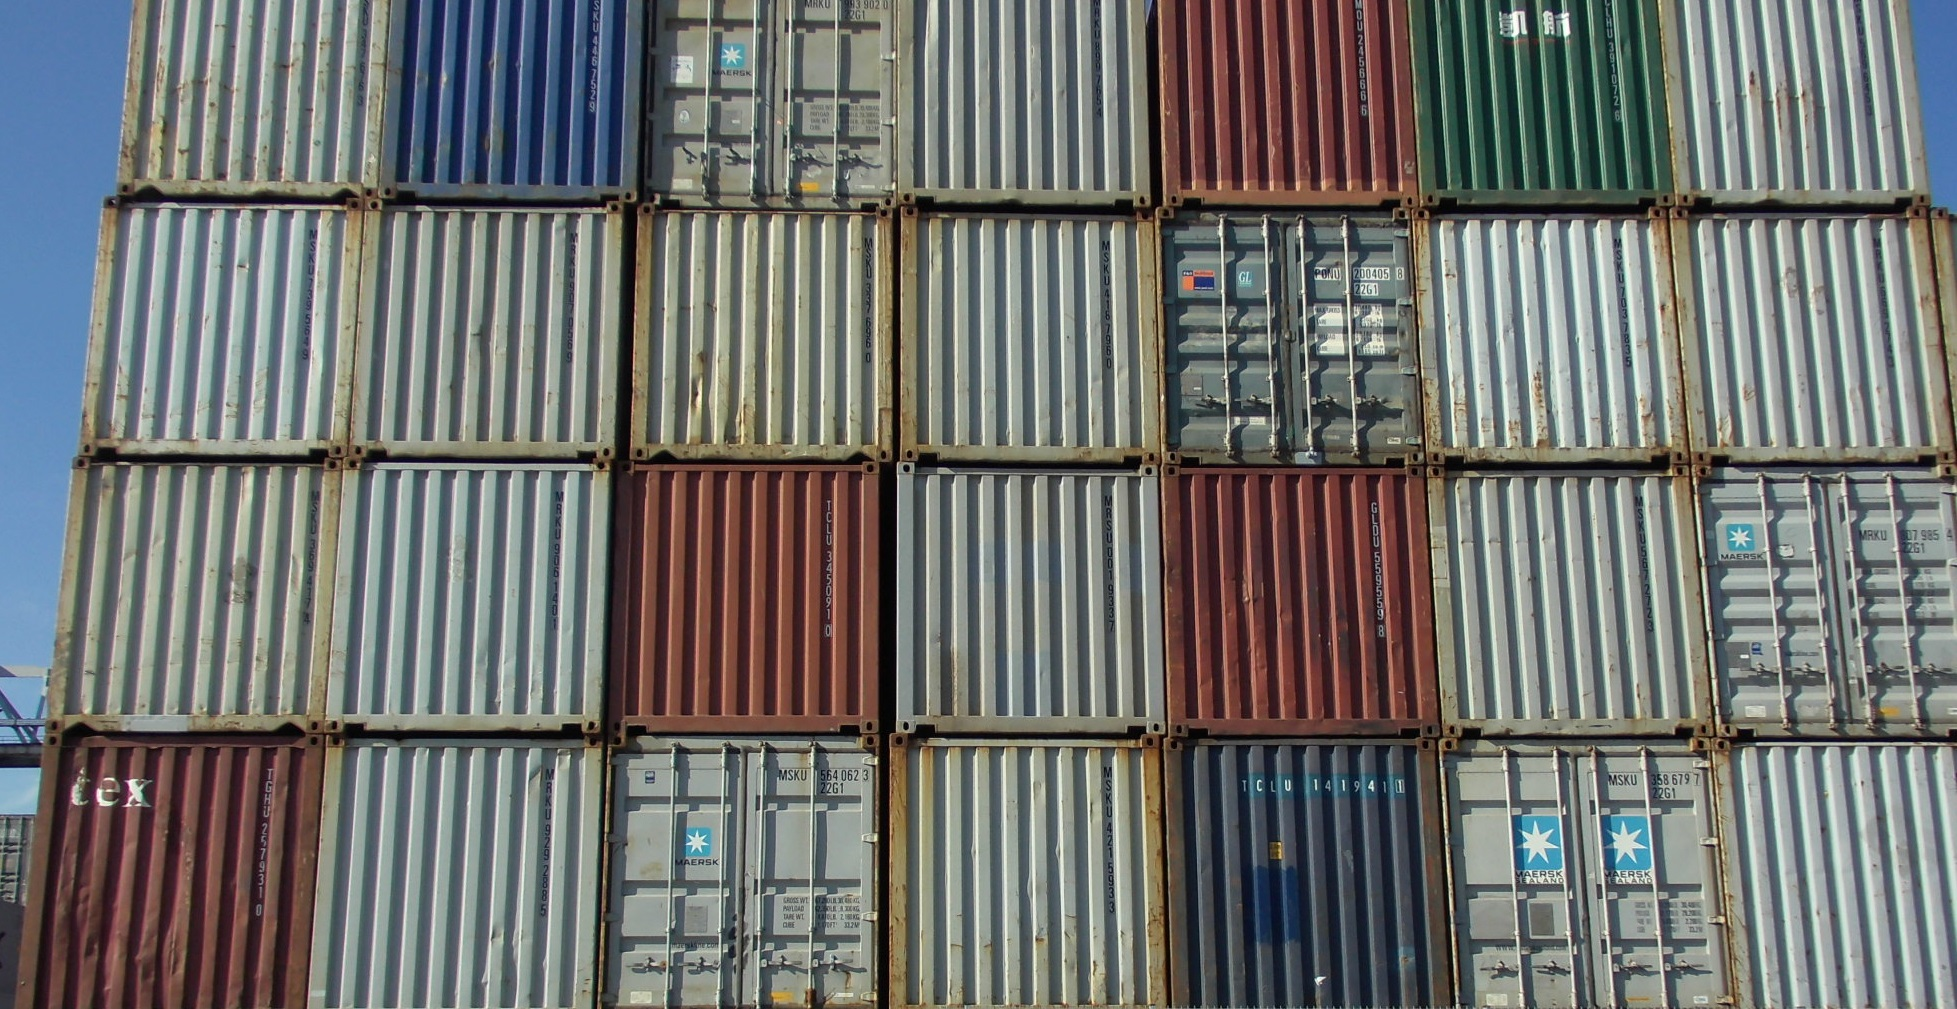container_door: (1435, 744, 1729, 1009), (596, 744, 890, 1009), (1164, 205, 1429, 465), (1692, 472, 1957, 731), (632, 1, 905, 205)
container_no_door: (48, 456, 353, 731), (889, 727, 1179, 1009), (319, 727, 609, 1009), (33, 727, 323, 1009), (1179, 727, 1444, 1009), (620, 459, 885, 739), (342, 459, 607, 737), (896, 465, 1161, 743), (1170, 459, 1435, 737), (1444, 457, 1707, 736), (1677, 197, 1952, 458), (371, 203, 636, 458), (96, 201, 362, 456), (1423, 206, 1687, 461), (903, 214, 1167, 468), (633, 202, 897, 457), (1732, 727, 1957, 1009), (112, 1, 392, 198), (385, 1, 645, 201), (1669, 1, 1929, 201), (905, 1, 1149, 201), (1161, 1, 1405, 201), (1413, 1, 1657, 201)
